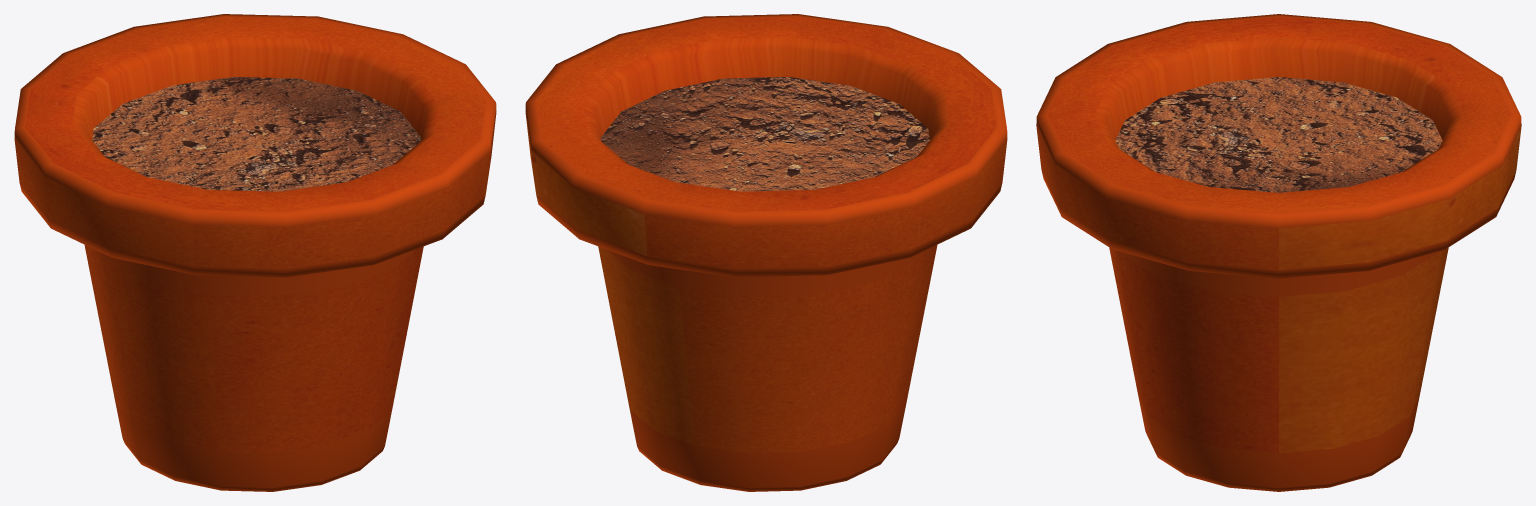
Rendered from pot.fbx.
3 renders of one model, left to right at view 1: azimuth 30°, elevation 25°; view 2: azimuth 150°, elevation 25°; view 3: azimuth 270°, elevation 25°, orthographic.
Parts seen in each view (by area): view 1: Pot, Soil; view 2: Pot, Soil; view 3: Pot, Soil.
Boxes of the visible parts, <box> form: Pot: <box>14,14,496,491</box>; Soil: <box>92,77,421,191</box>; Pot: <box>525,14,1007,491</box>; Soil: <box>600,77,929,191</box>; Pot: <box>1036,14,1521,491</box>; Soil: <box>1115,77,1442,192</box>.
Size of the model in its own units: 0.48 by 0.48 by 0.351.
